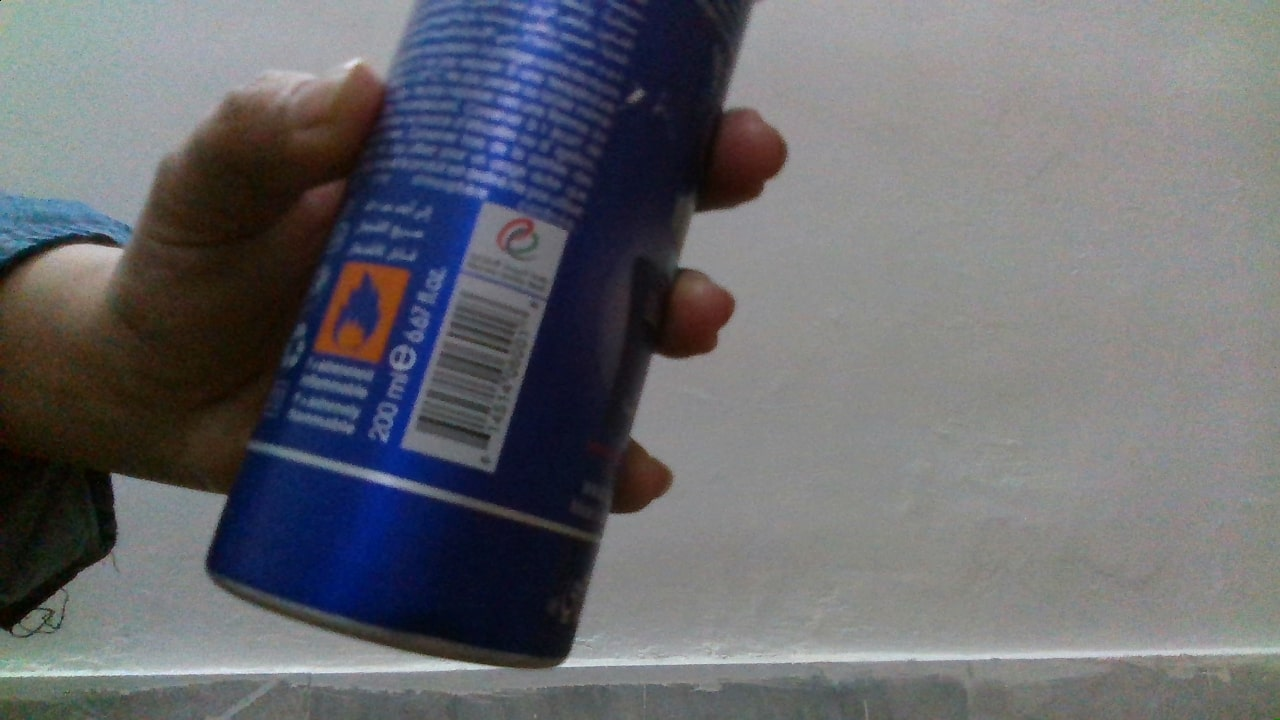Barcode: (414, 284, 535, 453)
